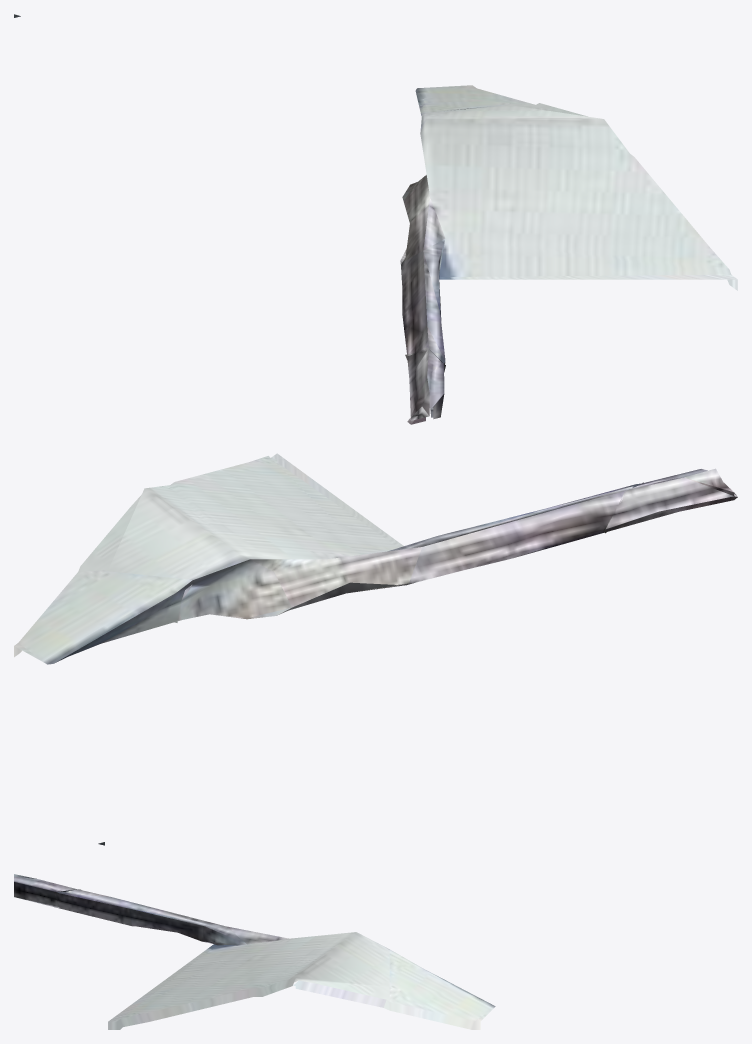
3 views of the same model, one above another, from view 1: azimuth 30°, elevation 25°; view 2: azimuth 150°, elevation 25°; view 3: azimuth 270°, elevation 25° (orthographic). The views are drawn at different scales.
Parts seen in each view (by area): view 1: 30436272704370607724_0; view 2: 30436272704370607724_0; view 3: 30436272704370607724_0.
Part boxes in pixels (x1,y1,x2,y2): 30436272704370607724_0: (14,14,737,424); 30436272704370607724_0: (14,453,737,845); 30436272704370607724_0: (14,874,495,1029).
Size of the model in its own units: 16.41 by 2.93 by 36.87.
1 material, 1 textured.
